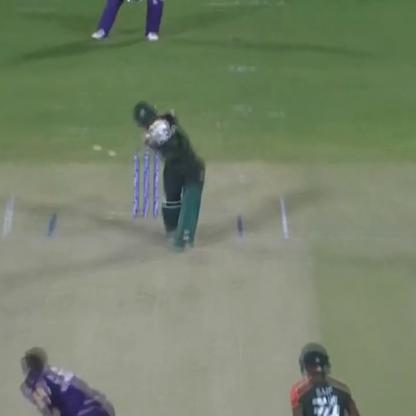ball: (90, 139, 102, 155), (107, 148, 118, 162)
bat: (138, 127, 182, 145)
pitch: (1, 185, 325, 416)
